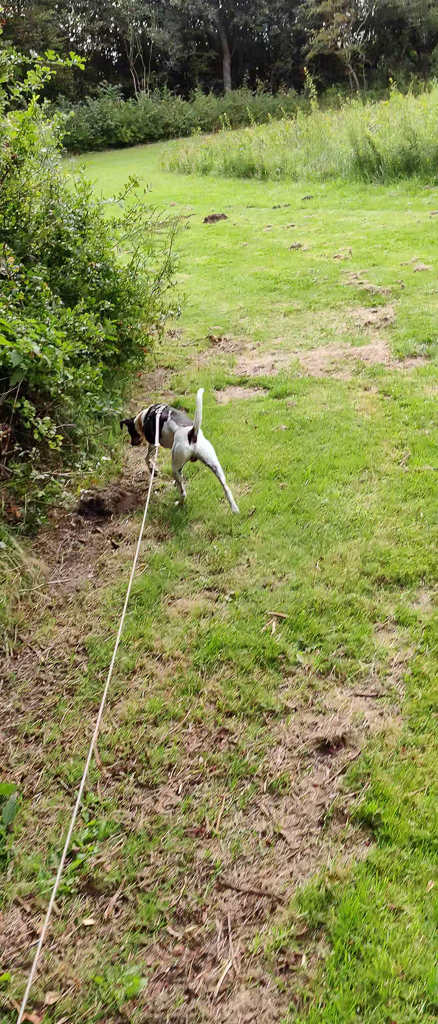Dog: (116, 384, 247, 523)
